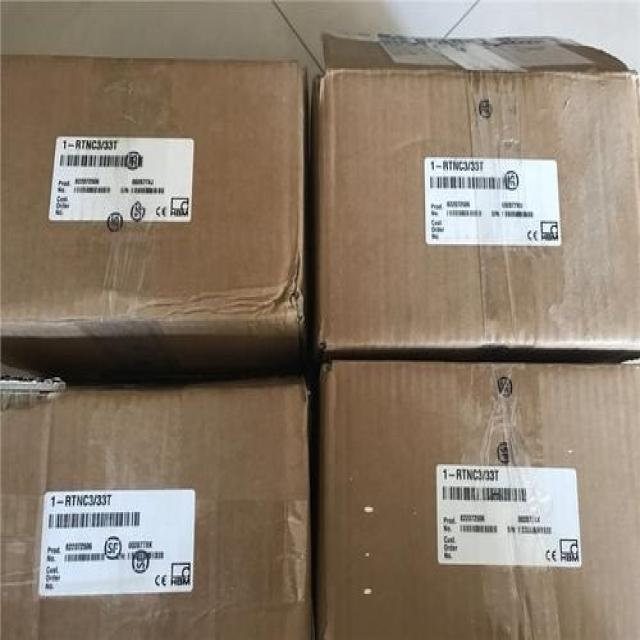box: (314, 28, 639, 352), (317, 362, 638, 638), (1, 55, 307, 342), (0, 381, 316, 638)
